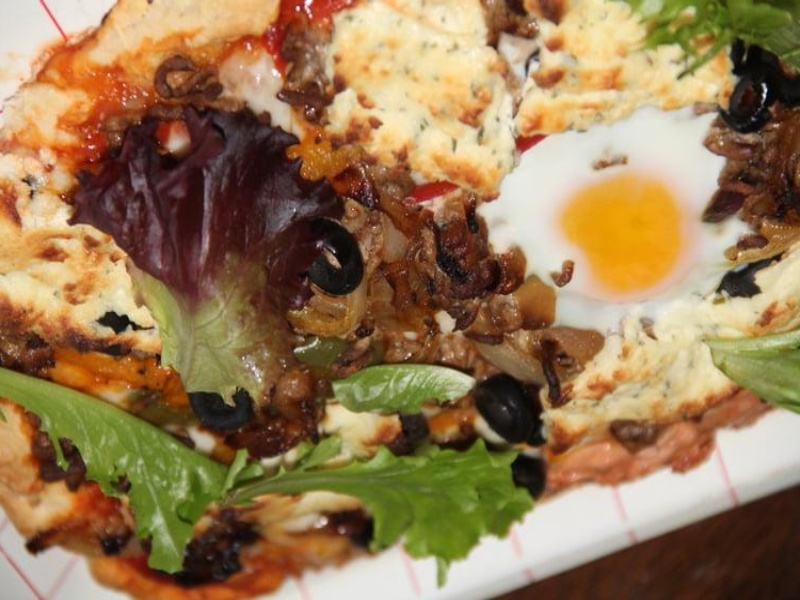oeuf: (542, 159, 697, 309)
